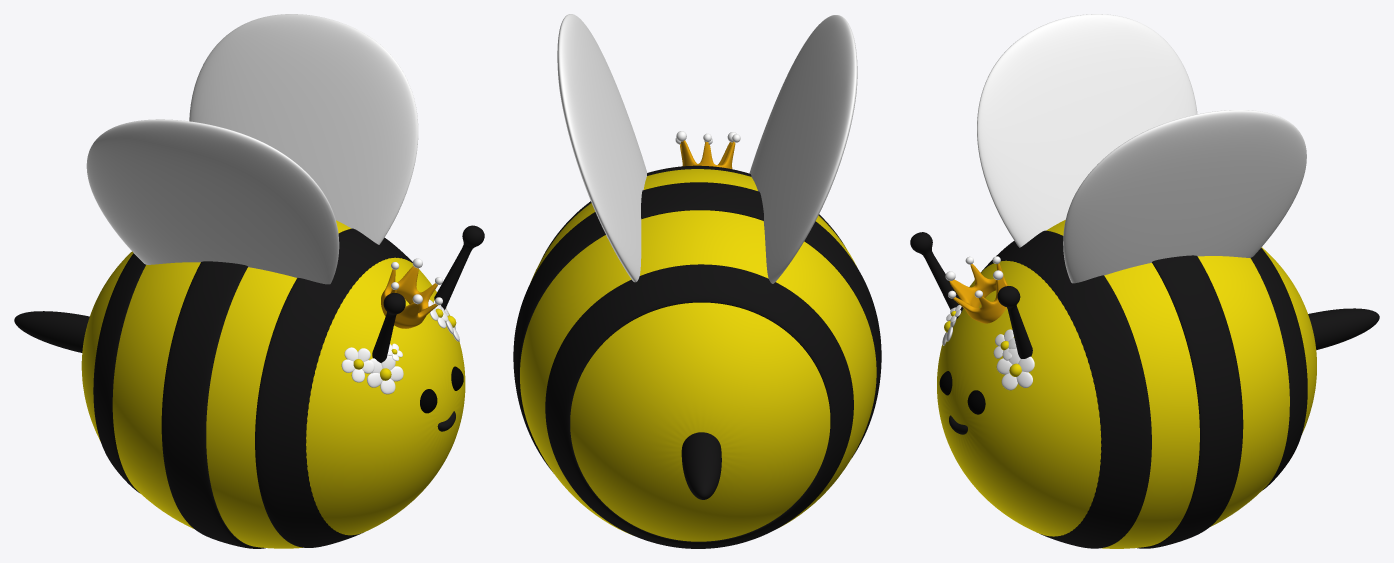
The model's file is Bee_3d.glb.
The picture shows the model from 3 angles, left to right: view 1: azimuth 30°, elevation 25°; view 2: azimuth 150°, elevation 25°; view 3: azimuth 270°, elevation 25°; orthographic projection. The views are drawn at different scales.
Visible parts, largest first — view 1: Cube.052, Sphere.012, Sphere.013, Cylinder, Sphere.015, Cylinder.001, Sphere.014; view 2: Sphere.012, Sphere.013, Cube.052, Sphere.015, Cylinder.001; view 3: Cube.052, Sphere.012, Sphere.013, Cylinder, Sphere.015, Cylinder.001, Sphere.014.
Boxes of the visible parts, x1,y1,x2,y2 form: Cube.052: (86, 14, 418, 284); Sphere.012: (81, 220, 465, 548); Sphere.013: (93, 228, 412, 548); Cylinder: (372, 225, 484, 362); Sphere.015: (14, 311, 89, 352); Cylinder.001: (381, 266, 437, 328); Sphere.014: (420, 366, 463, 413); Sphere.012: (520, 169, 876, 541); Sphere.013: (513, 165, 881, 548); Cube.052: (557, 14, 857, 283); Sphere.015: (681, 432, 721, 499); Cylinder.001: (679, 140, 735, 168); Cube.052: (977, 14, 1306, 283); Sphere.012: (937, 220, 1316, 548); Sphere.013: (981, 230, 1307, 548); Cylinder: (910, 232, 1032, 358); Sphere.015: (1308, 308, 1379, 349); Cylinder.001: (949, 263, 1008, 323); Sphere.014: (939, 371, 985, 414).
Size of the model in its own units: 4.13 by 5.88 by 5.38.
